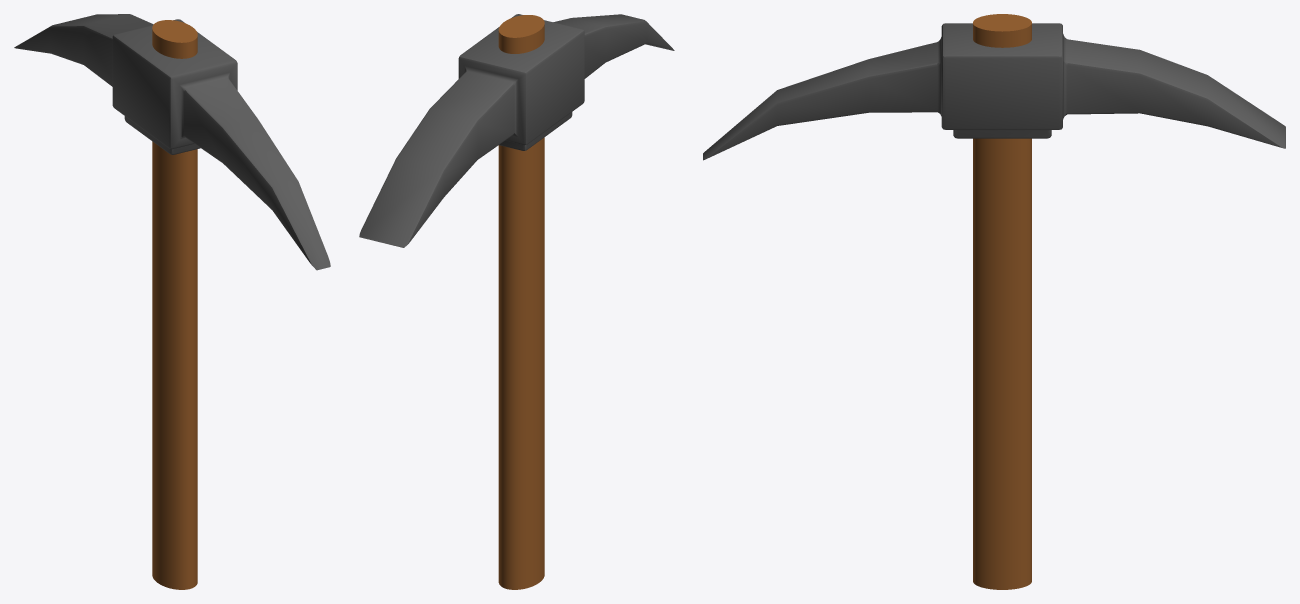
File: Кирка.fbx
3 views of the same model, side by side, from view 1: azimuth 30°, elevation 25°; view 2: azimuth 150°, elevation 25°; view 3: azimuth 270°, elevation 25° (orthographic). The views are drawn at different scales.
Visible parts, largest first — view 1: Cube.031; view 2: Cube.031; view 3: Cube.031.
Boxes of the visible parts, bbox=[...] form: Cube.031: bbox=[14, 14, 330, 589]; Cube.031: bbox=[359, 14, 674, 589]; Cube.031: bbox=[703, 14, 1285, 589].
Bounding box in the file's own units: 41.84 × 321 × 304.
